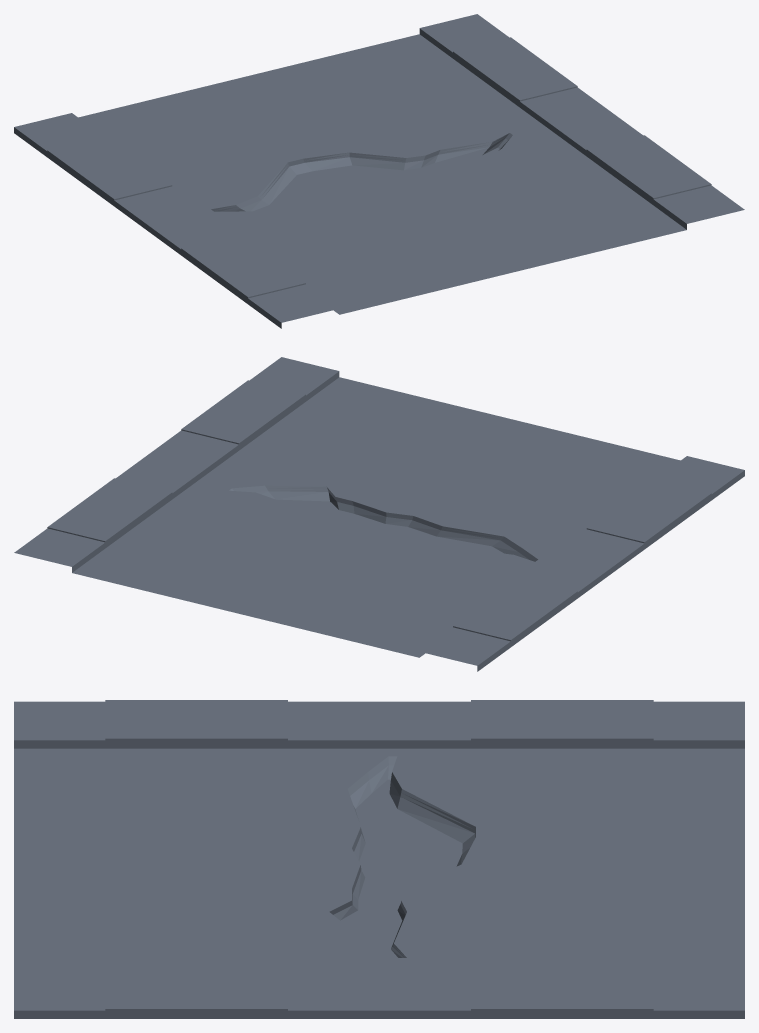
The model's file is env_street_crack_01.glb.
3 views of the same model, one above another, from view 1: azimuth 30°, elevation 25°; view 2: azimuth 150°, elevation 25°; view 3: azimuth 270°, elevation 25° (orthographic). The views are drawn at different scales.
Visible parts, largest first — view 1: _tmp_env_env_street_crack_01.obj; view 2: _tmp_env_env_street_crack_01.obj; view 3: _tmp_env_env_street_crack_01.obj.
Part boxes in pixels (<box>): _tmp_env_env_street_crack_01.obj: <box>14,14,744,328</box>; _tmp_env_env_street_crack_01.obj: <box>14,357,744,671</box>; _tmp_env_env_street_crack_01.obj: <box>14,700,744,1018</box>.
Bounding box in the file's own units: 8 × 0.2852 × 8.
